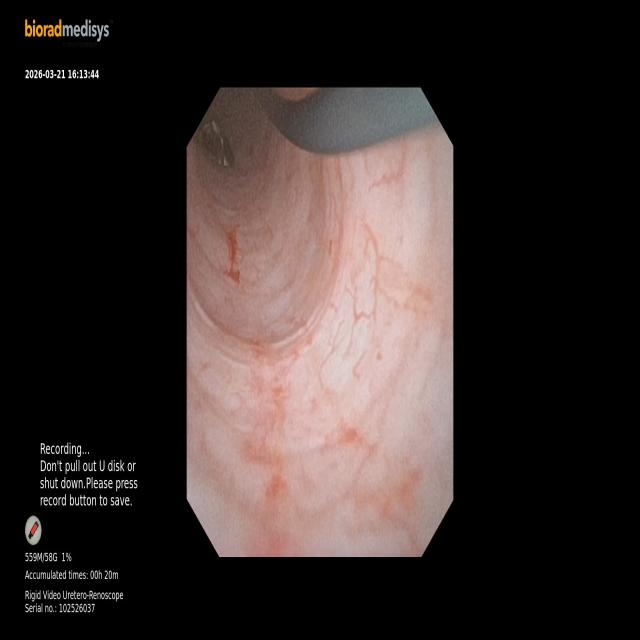stone-new: (199, 117, 234, 167)
